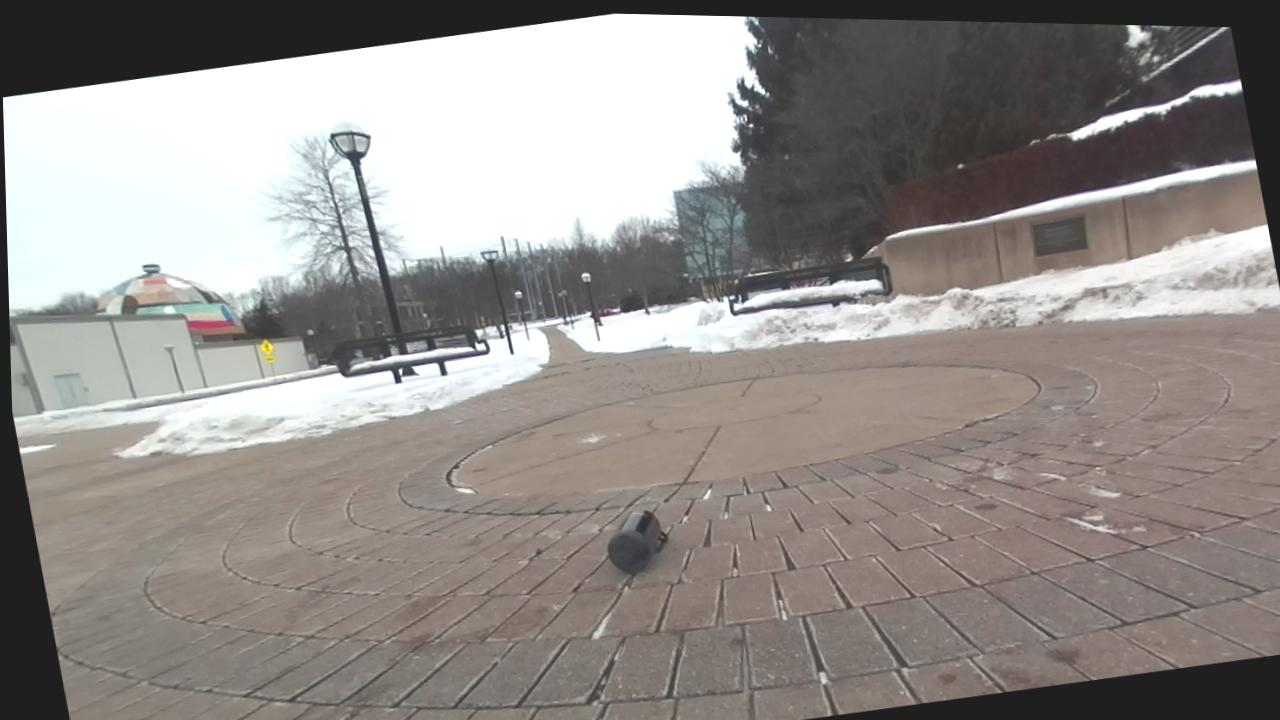bottle: (608, 510, 667, 572)
